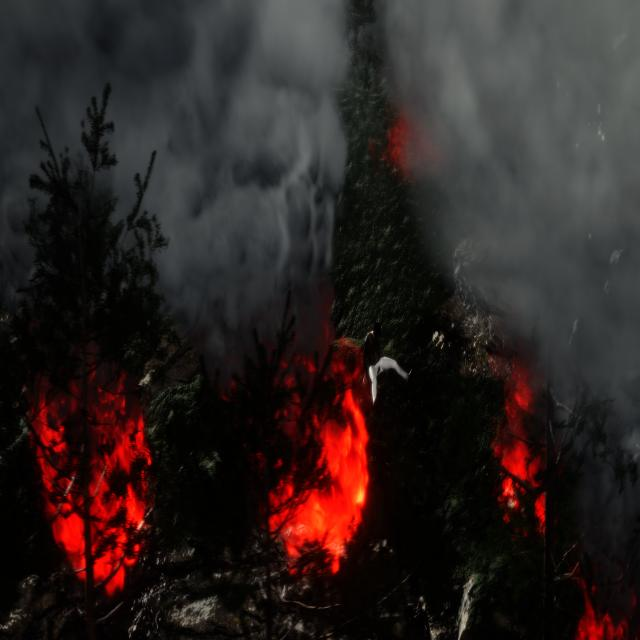Human: (358, 310, 420, 416)
